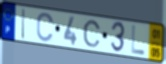3: (110, 21, 126, 55)
4: (62, 16, 78, 48)
C: (36, 11, 55, 43), (82, 19, 102, 49)
I: (21, 8, 27, 41)
L: (130, 24, 146, 57)
